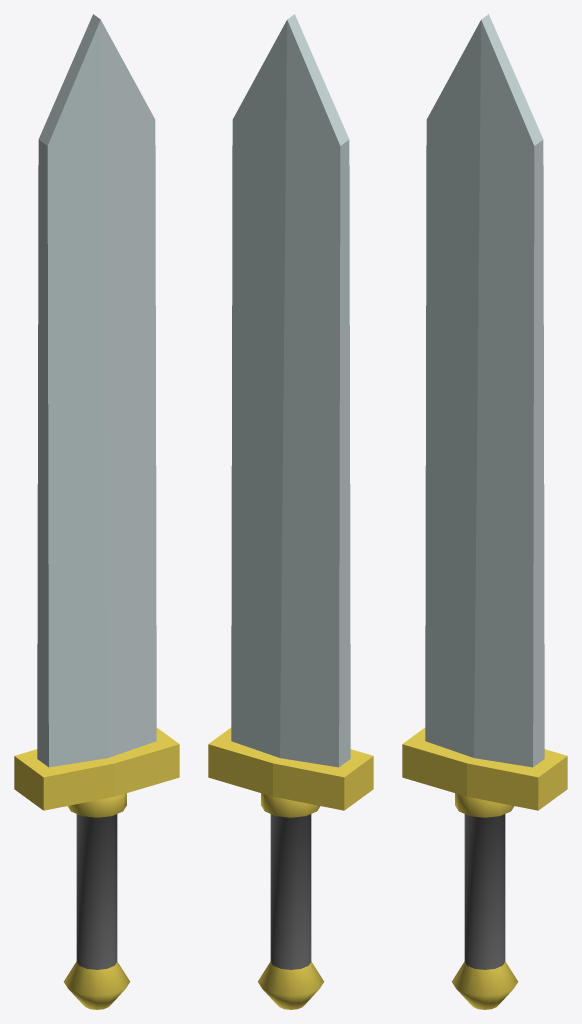
The model's file is NormalSword.fbx.
3 views of the same model, side by side, from view 1: azimuth 30°, elevation 25°; view 2: azimuth 150°, elevation 25°; view 3: azimuth 330°, elevation 25° (orthographic).
Parts seen in each view (by area): view 1: Cube.001; view 2: Cube.001; view 3: Cube.001.
Part boxes in pixels (bbox=[...]): Cube.001: bbox=[14, 14, 179, 1009]; Cube.001: bbox=[208, 14, 373, 1009]; Cube.001: bbox=[402, 14, 567, 1009].
Size of the model in its own units: 13.59 by 94.22 by 6.27.
1 material, 1 textured.
